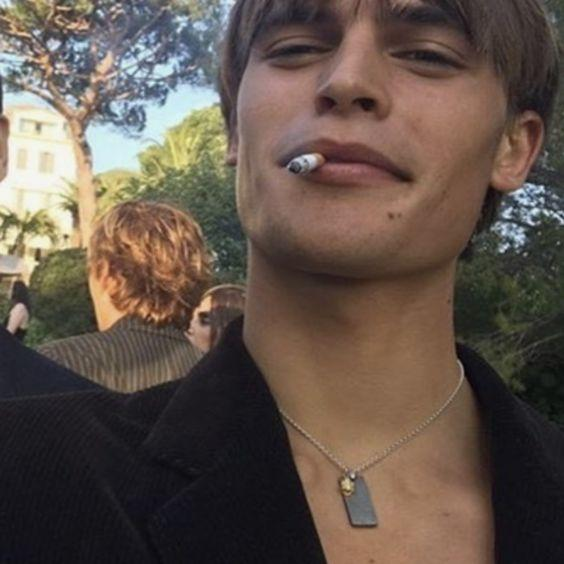cigarette: (288, 154, 325, 175)
